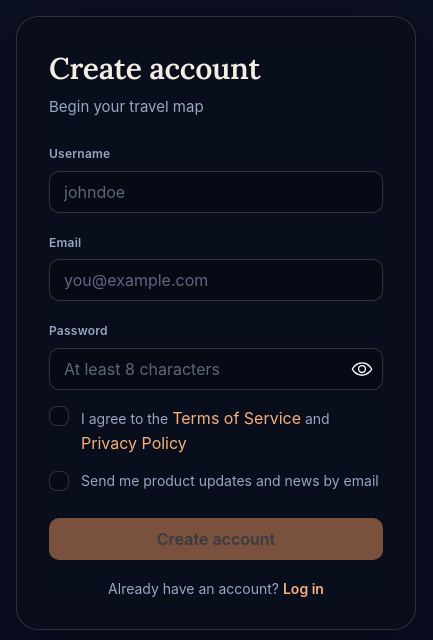
Test: SignUpPage › невалидные поля дают сообщения под полями и не отправляют запрос
This screenshot has width=433, height=640.
Click the checkbox labelled "I agree to the Terms of Service and Privacy Policy". click: click(59, 416)
box: [49,406,69,426]
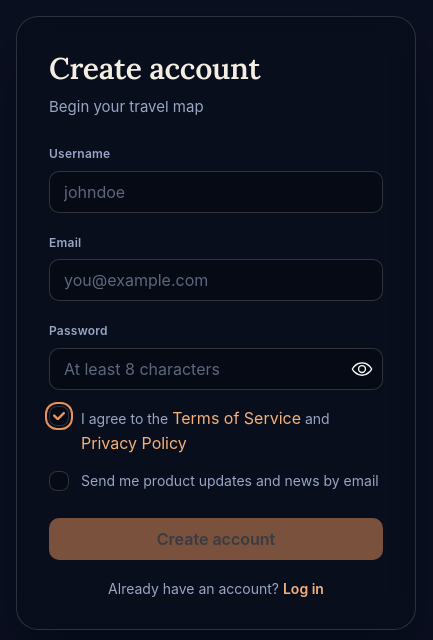
Type "ab" into the field labelled "Username". click: (216, 192)
box: [49,171,383,213]
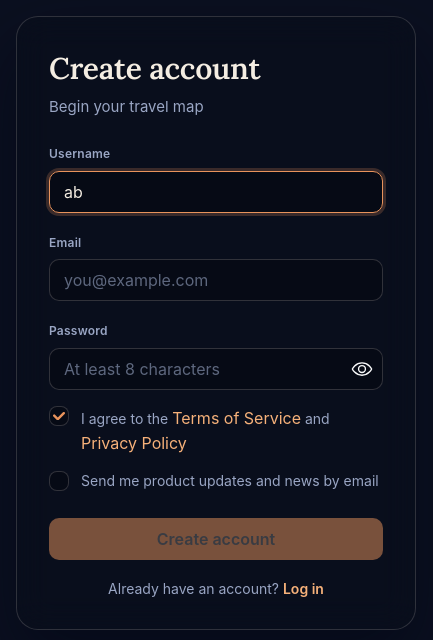
Type "nope" into the field labelled "Email". click: (216, 280)
box: [49,259,383,301]
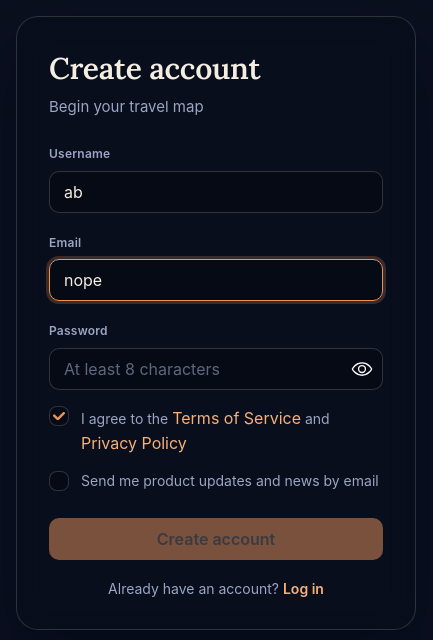
Type "short" into the password field labelled "Password". click: (216, 369)
box: [50,349,382,389]
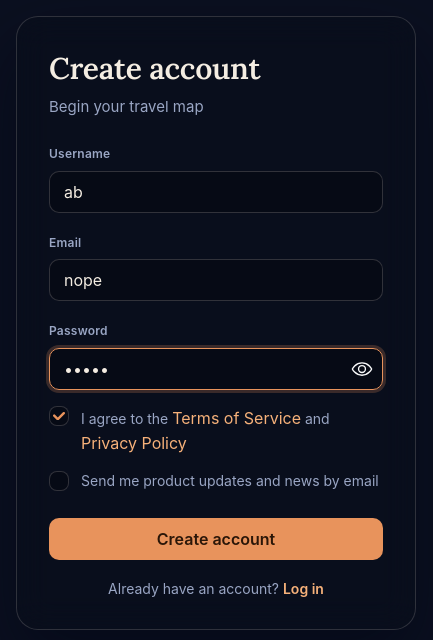
Click the button "Create account". click: click(216, 539)
box: [49,518,383,560]
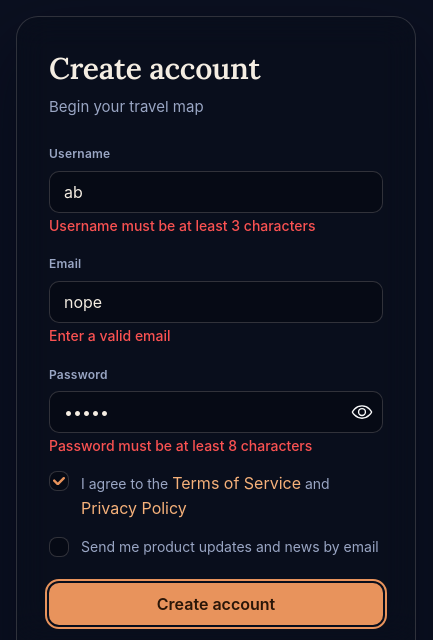
Now the text "Username must be at least 3 characters" is shown, box [49,217,316,234]
Now the text "Enter a valid email" is shown, box [49,327,171,344]
Now the text "Password must be at least 8 characters" is shown, box [49,437,312,454]
